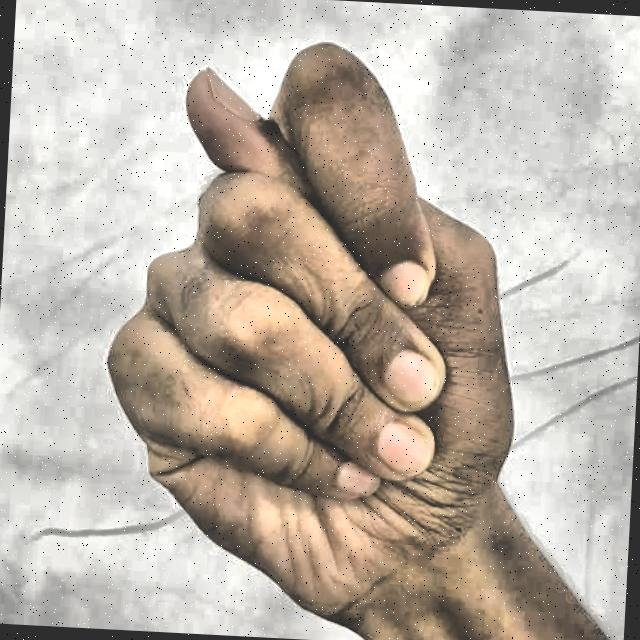Ta: (81, 12, 590, 640)
